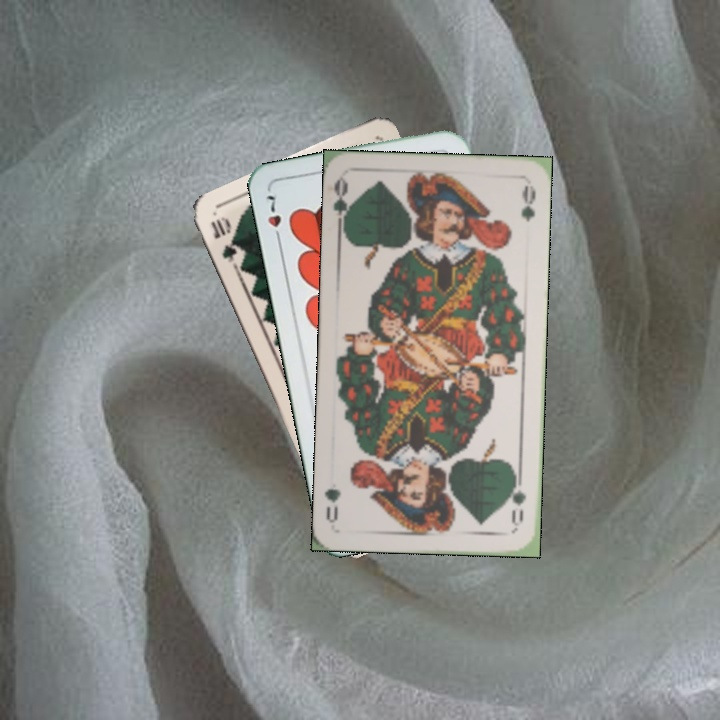G10: (206, 212, 241, 266)
GO: (329, 175, 356, 235), (506, 471, 529, 529)
H7: (262, 189, 285, 247)
